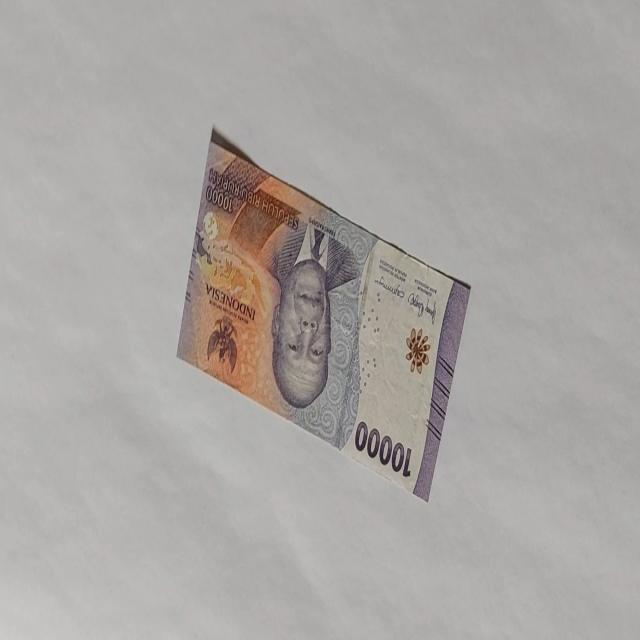sepuluh ribu rupiah: (176, 126, 472, 503), (353, 418, 413, 478)
